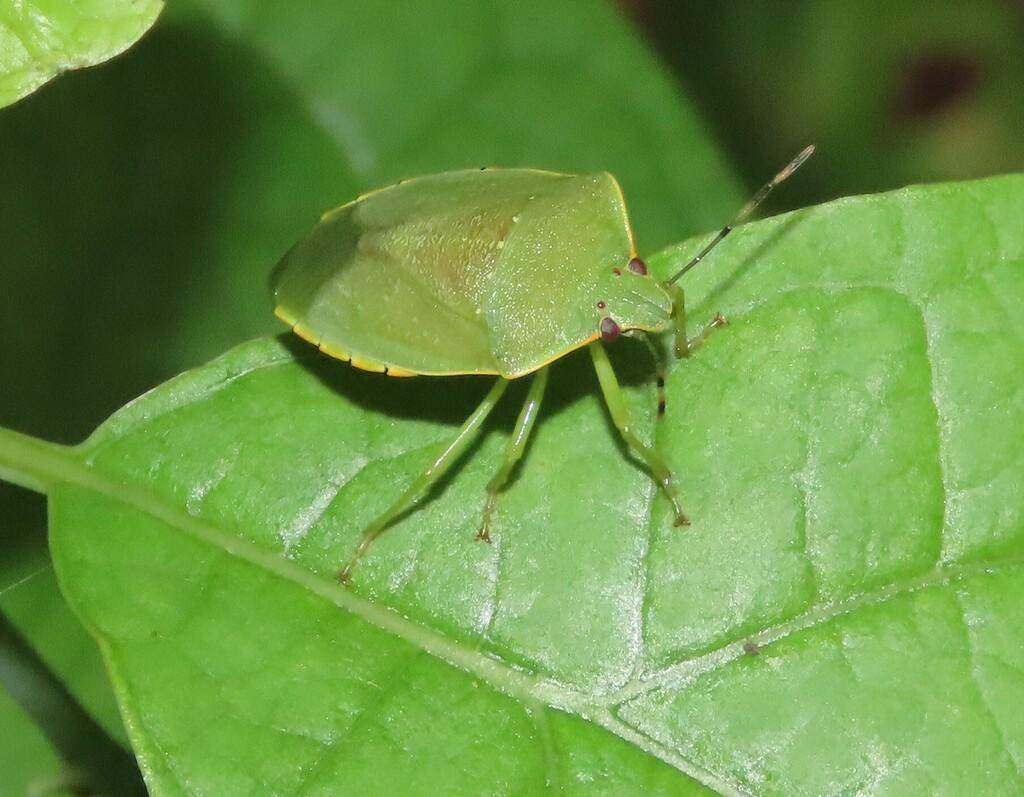stink_bugs: (225, 95, 855, 606)
